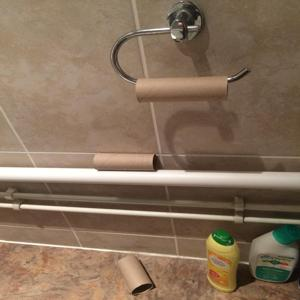cardboard: (133, 72, 234, 105), (86, 143, 164, 176), (116, 250, 157, 298)
plastic bottle: (243, 224, 298, 286), (204, 226, 243, 292)
